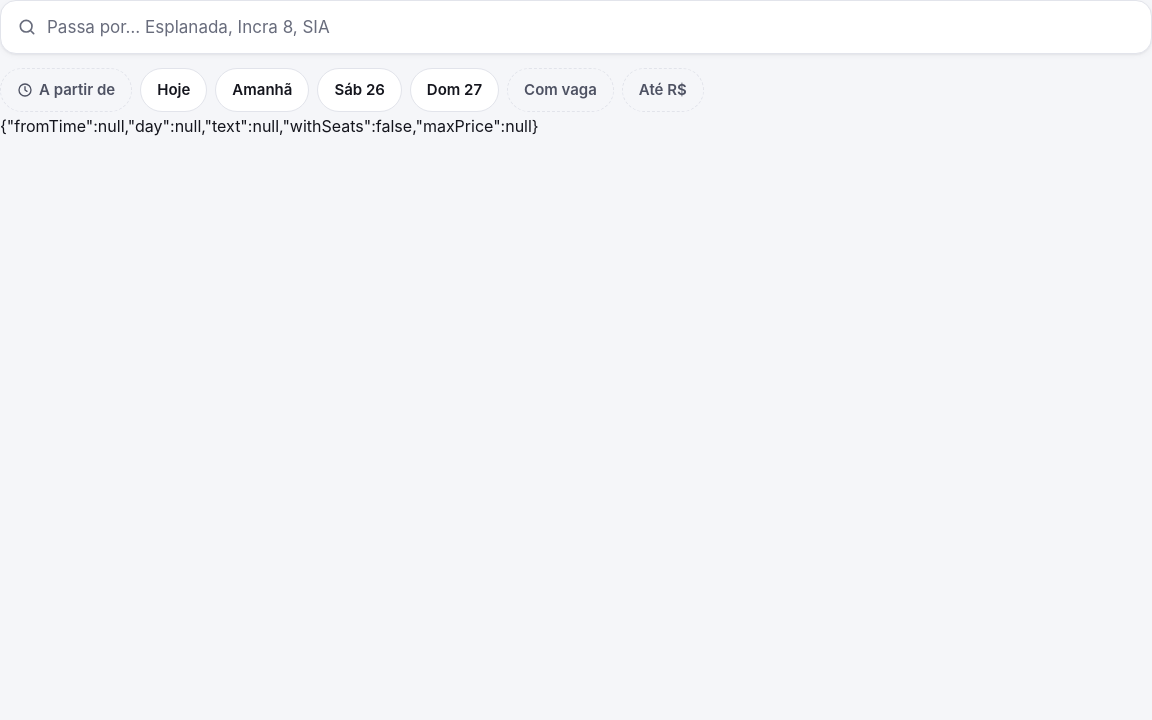
Test: the board's filters, as a person uses them › sets 'A partir de' by typing the hour on the sheet, and the chip then says it
Click the button "A partir de". click: (66, 90)
box: [0,68,132,112]
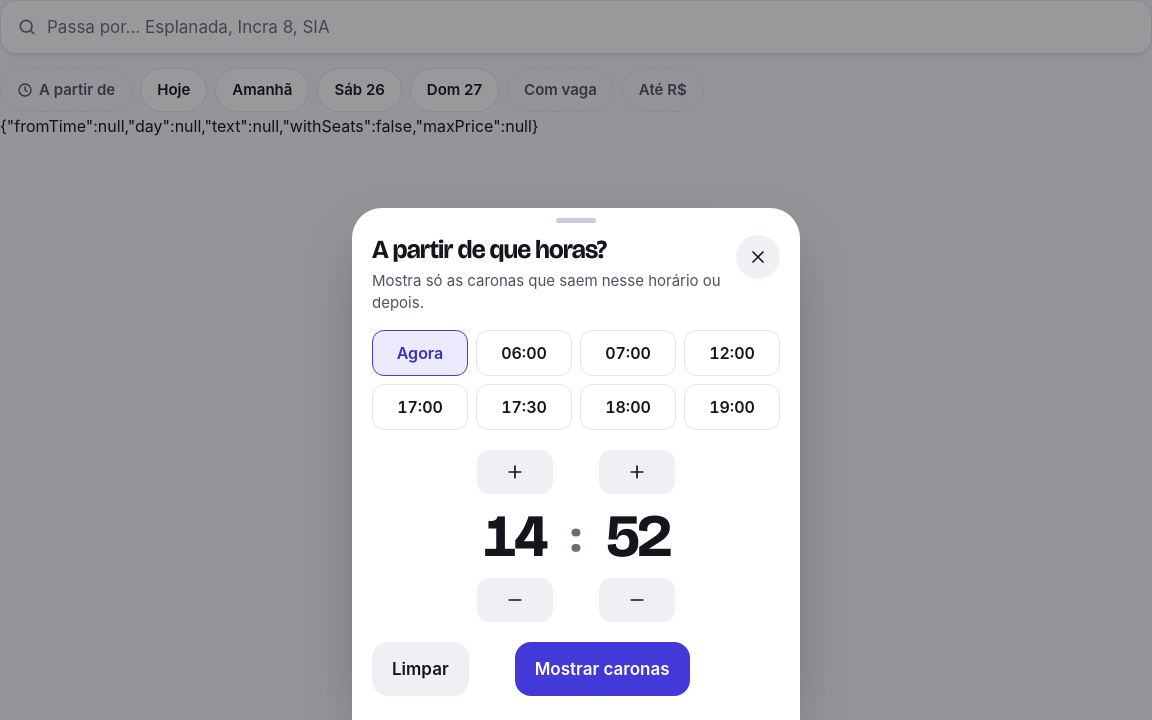
Click the field named "Hora". click: (514, 536)
box: [468,500,560,572]
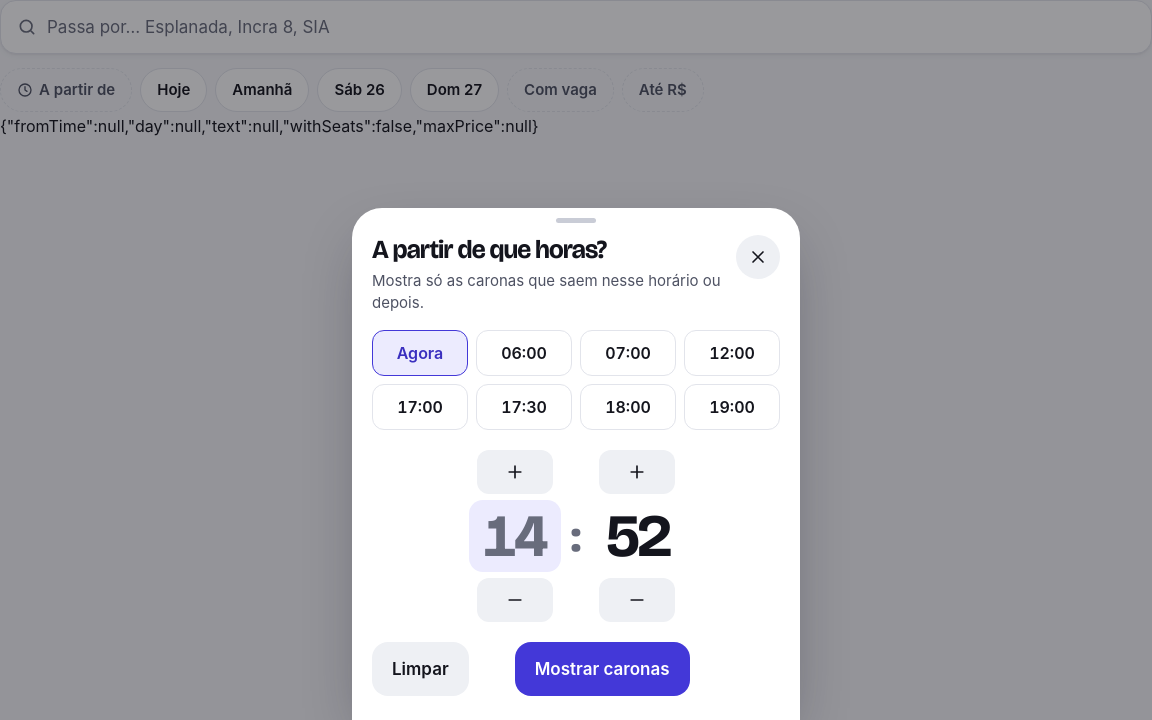
Type keys "1830"
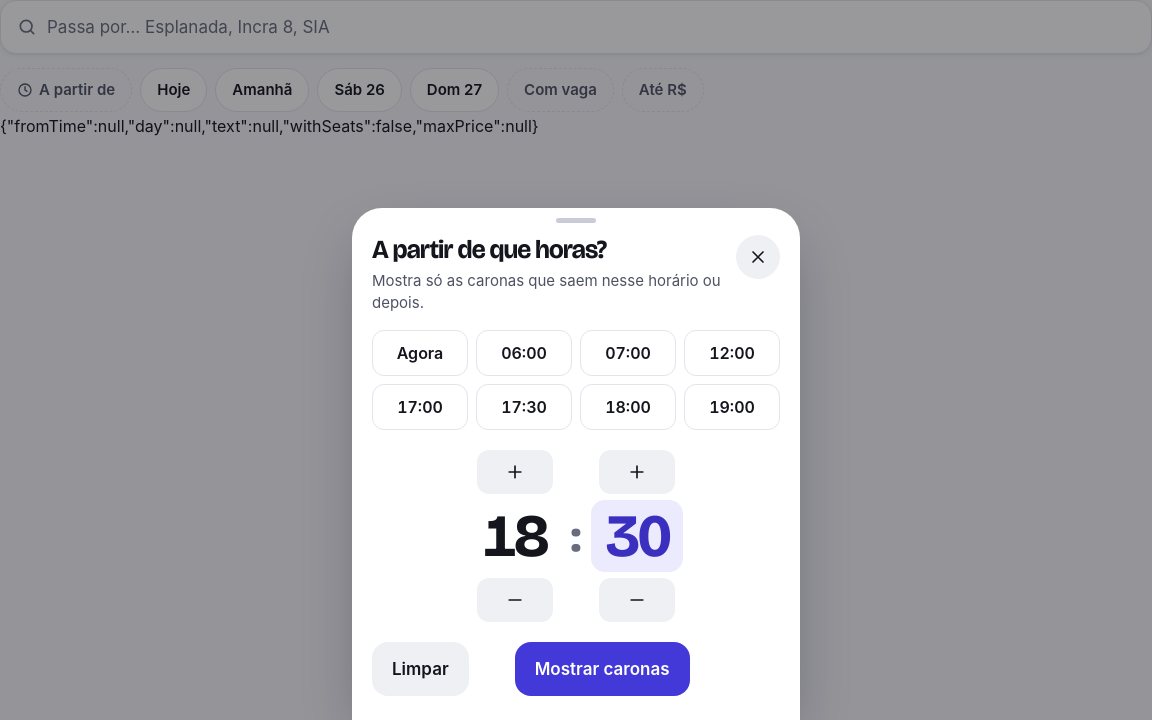
Click the button "Mostrar caronas". click: (602, 669)
box: [515,642,690,696]
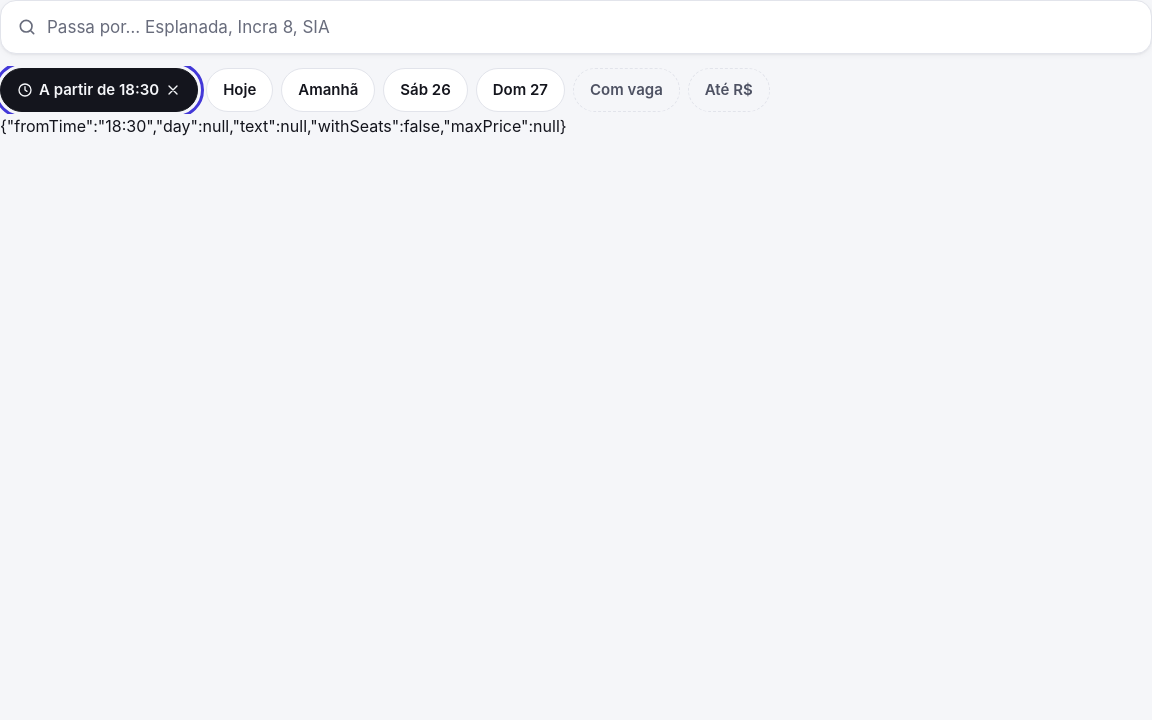
Expected: the button "A partir de 18:30" is shown, [0,68,198,112]
